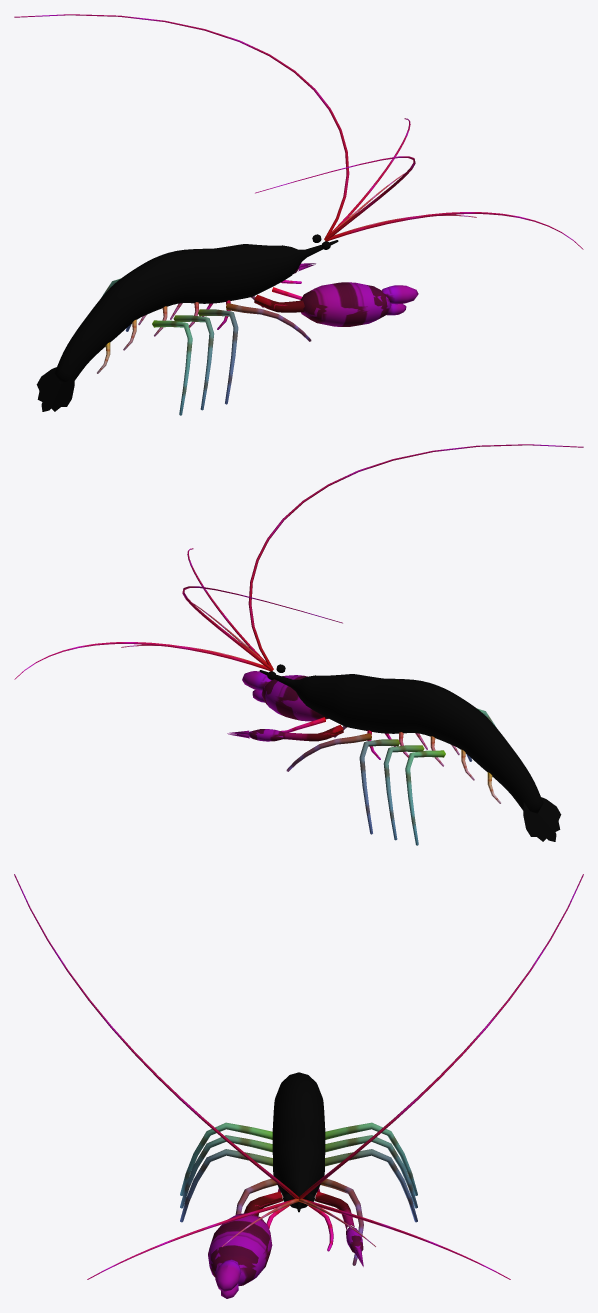
Rendered from pistol_shrimp.glb.
The picture shows the model from 3 angles, top to bottom: view 1: azimuth 30°, elevation 25°; view 2: azimuth 150°, elevation 25°; view 3: azimuth 270°, elevation 25°; orthographic projection. The views are drawn at different scales.
Visible parts, largest first — view 1: Body, Claws, Legs, Antennae; view 2: Body, Legs, Antennae, Claws; view 3: Legs, Body, Claws, Antennae.
Part boxes in pixels (x1,y1,x2,y2): Body: (36,240,338,411); Claws: (254,263,418,326); Legs: (97,278,311,415); Antennae: (14,14,583,249); Body: (259,670,561,841); Legs: (280,708,500,845); Antennae: (14,444,583,679); Claws: (227,671,343,741); Legs: (180,1122,417,1265); Body: (272,1072,325,1212); Claws: (208,1191,363,1298); Antennae: (14,874,583,1279).
Bounding box in the file's own units: 1.46 × 0.8811 × 1.35.
Materials: 2 (1 with a texture image).
